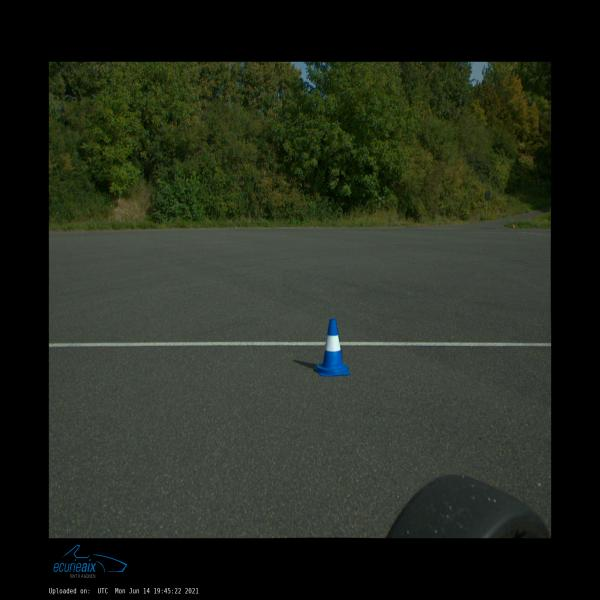blue_cone: (314, 318, 351, 377)
